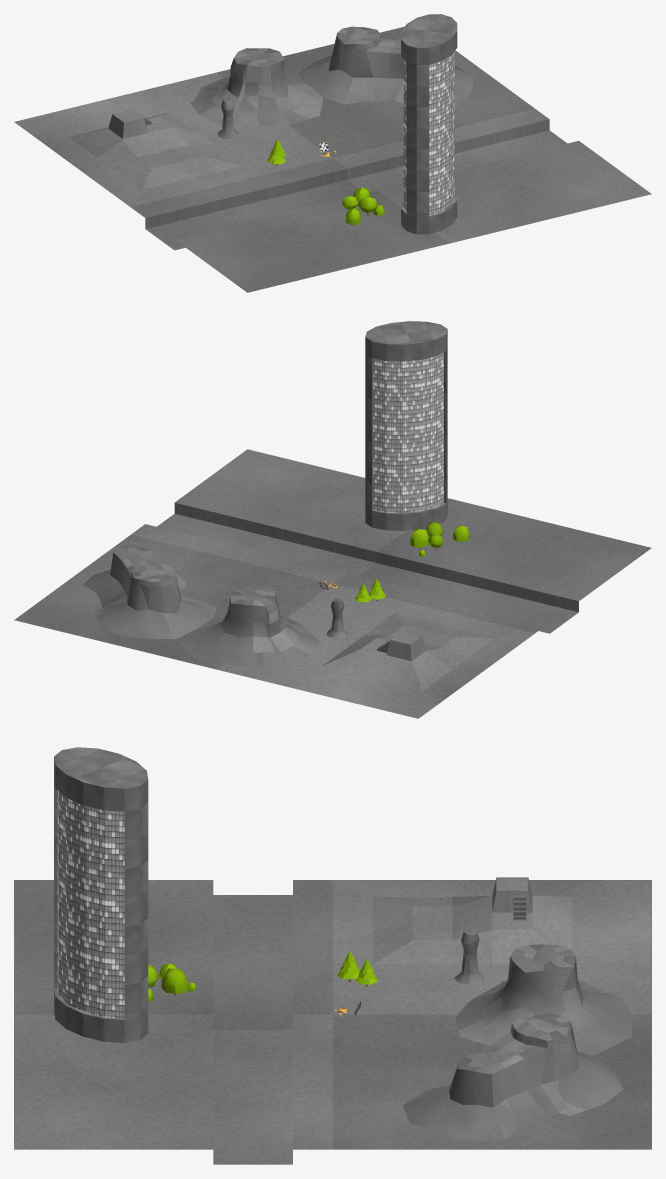
Rendered from b-frame-test.glb.
The picture shows the model from 3 angles, top to bottom: view 1: azimuth 30°, elevation 25°; view 2: azimuth 150°, elevation 25°; view 3: azimuth 270°, elevation 25°; orthographic projection. The views are drawn at different scales.
Parts seen in each view (by area): view 1: ground-nocast, building, MESA, tabletop, spire; view 2: ground-nocast, building, tabletop, MESA; view 3: ground-nocast, building, tabletop, MESA, spire.
Part boxes in pixels (left/top/right/bottom): ground-nocast: left=14, top=26, right=651, bottom=292; building: left=401, top=14, right=457, bottom=234; MESA: left=190, top=48, right=323, bottom=126; tabletop: left=299, top=26, right=473, bottom=104; spire: left=218, top=99, right=238, bottom=139; ground-nocast: left=14, top=449, right=651, bottom=718; building: left=365, top=321, right=447, bottom=530; tabletop: left=83, top=545, right=216, bottom=639; MESA: left=176, top=585, right=320, bottom=667; ground-nocast: left=14, top=877, right=651, bottom=1164; building: left=54, top=747, right=148, bottom=1042; tabletop: left=402, top=1013, right=623, bottom=1140; MESA: left=455, top=944, right=632, bottom=1055; spire: left=454, top=928, right=484, bottom=984.
Bounding box in the file's own units: 100 × 46.61 × 100.
17 materials, 3 textured.
